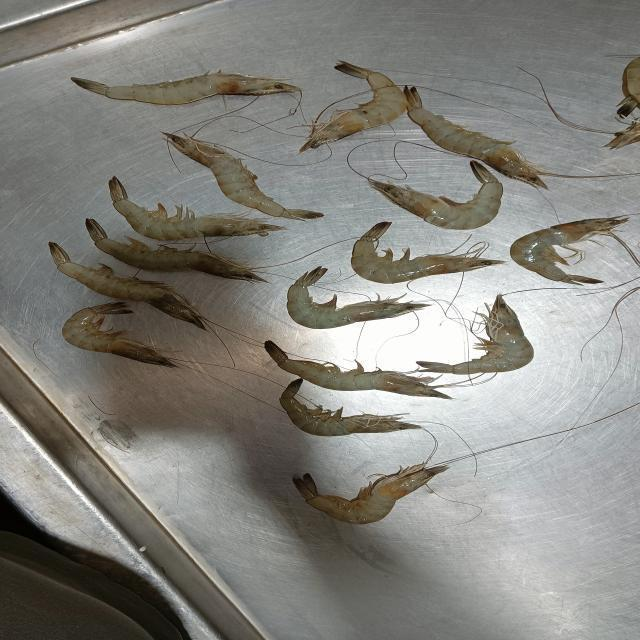shrimp: (405, 87, 548, 187), (164, 132, 323, 219), (50, 240, 204, 326), (85, 217, 266, 281), (110, 177, 278, 241), (265, 342, 449, 396), (294, 462, 448, 523), (301, 62, 406, 151), (351, 222, 502, 283), (367, 161, 501, 229), (418, 296, 533, 373), (287, 267, 428, 327), (511, 216, 627, 283), (281, 379, 419, 435), (62, 302, 177, 368), (71, 72, 299, 103), (307, 379, 420, 395), (616, 56, 639, 116)
